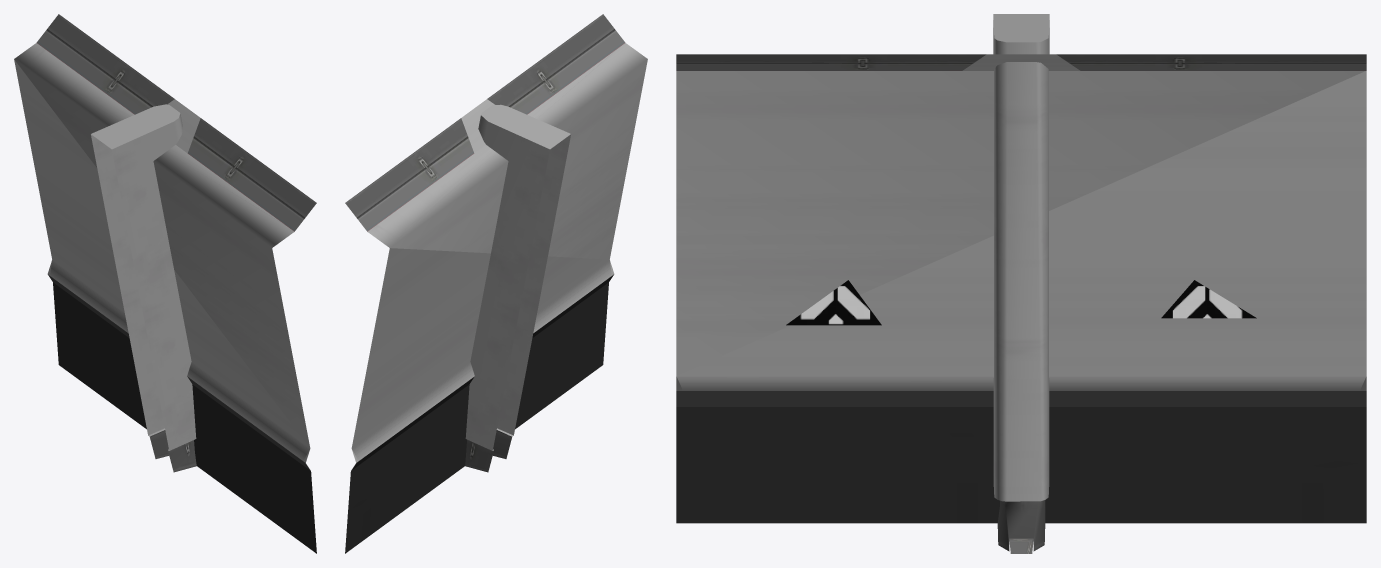
Rendered from core_wall_panel_lod2.glb.
3 views of the same model, side by side, from view 1: azimuth 30°, elevation 25°; view 2: azimuth 150°, elevation 25°; view 3: azimuth 270°, elevation 25° (orthographic). The views are drawn at different scales.
Parts seen in each view (by area): view 1: WallAstra_Straight; view 2: WallAstra_Straight; view 3: WallAstra_Straight.
Part boxes in pixels (x1,y1,x2,y2): WallAstra_Straight: [14, 14, 316, 553]; WallAstra_Straight: [345, 14, 647, 553]; WallAstra_Straight: [676, 14, 1366, 553].
Bounding box in the file's own units: 1.21 × 3.03 × 4.
Materials: 5 (5 with a texture image).
